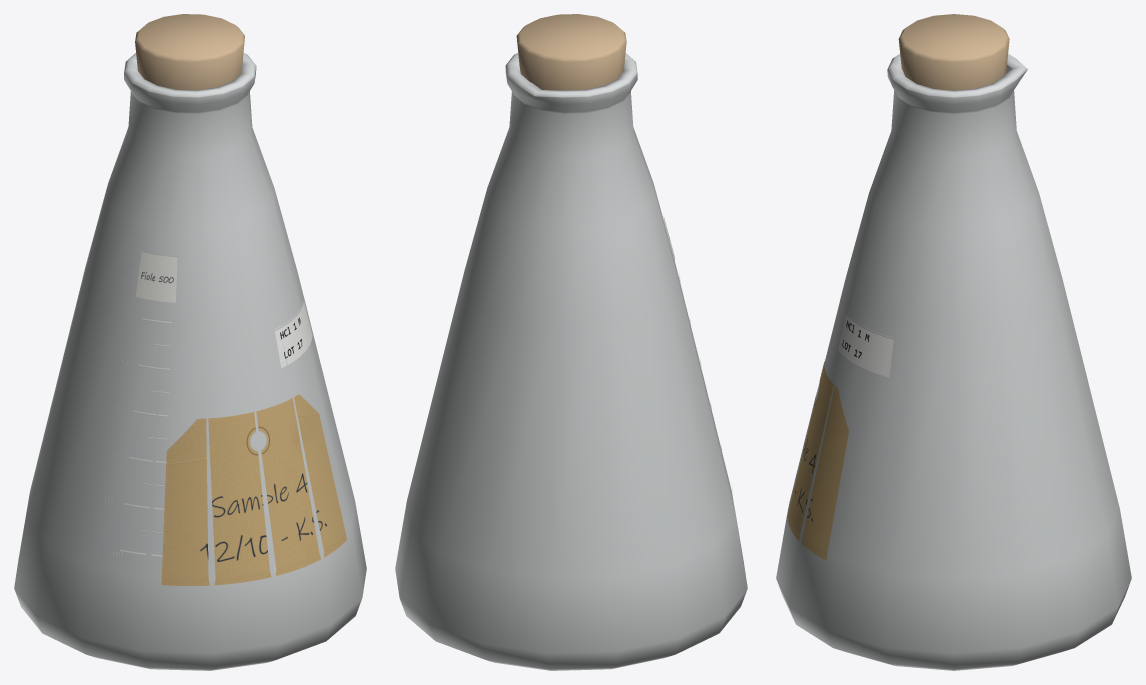
File: v2_erlenmeyer_lab_low.glb
The picture shows the model from 3 angles, left to right: view 1: azimuth 30°, elevation 25°; view 2: azimuth 150°, elevation 25°; view 3: azimuth 270°, elevation 25°; orthographic projection.
Parts seen in each view (by area): view 1: Glass, Labels, Cap; view 2: Glass, Cap; view 3: Glass, Labels, Cap.
Part boxes in pixels (box(x1,y1,x2,y2)): Glass: box(14, 52, 366, 670); Labels: box(104, 251, 346, 585); Cap: box(135, 14, 244, 90); Glass: box(395, 53, 747, 670); Cap: box(516, 14, 626, 90); Glass: box(776, 54, 1131, 670); Labels: box(787, 312, 893, 560); Cap: box(898, 14, 1009, 90).
Bounding box in the file's own units: 0.1064 × 0.1884 × 0.1066.
Materials: 4 (1 with a texture image).
